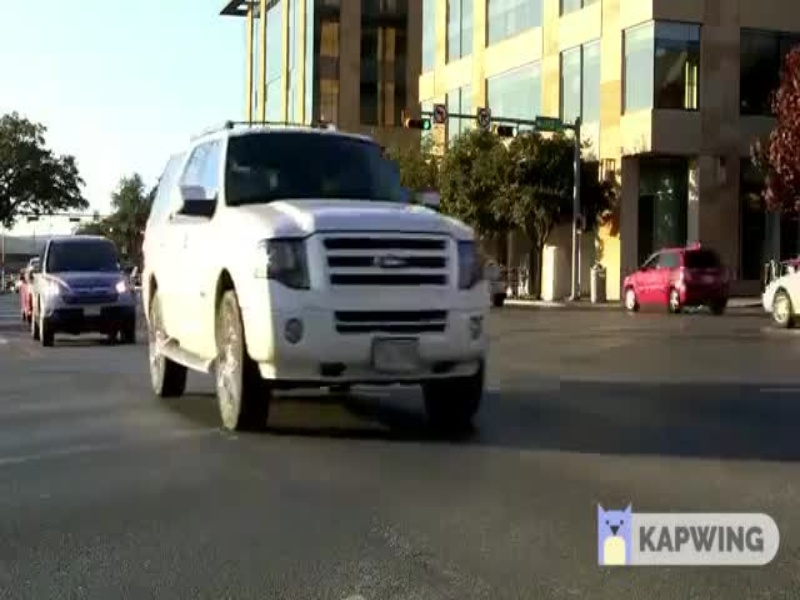suv: (130, 121, 488, 455), (30, 230, 140, 348), (617, 241, 728, 313)
